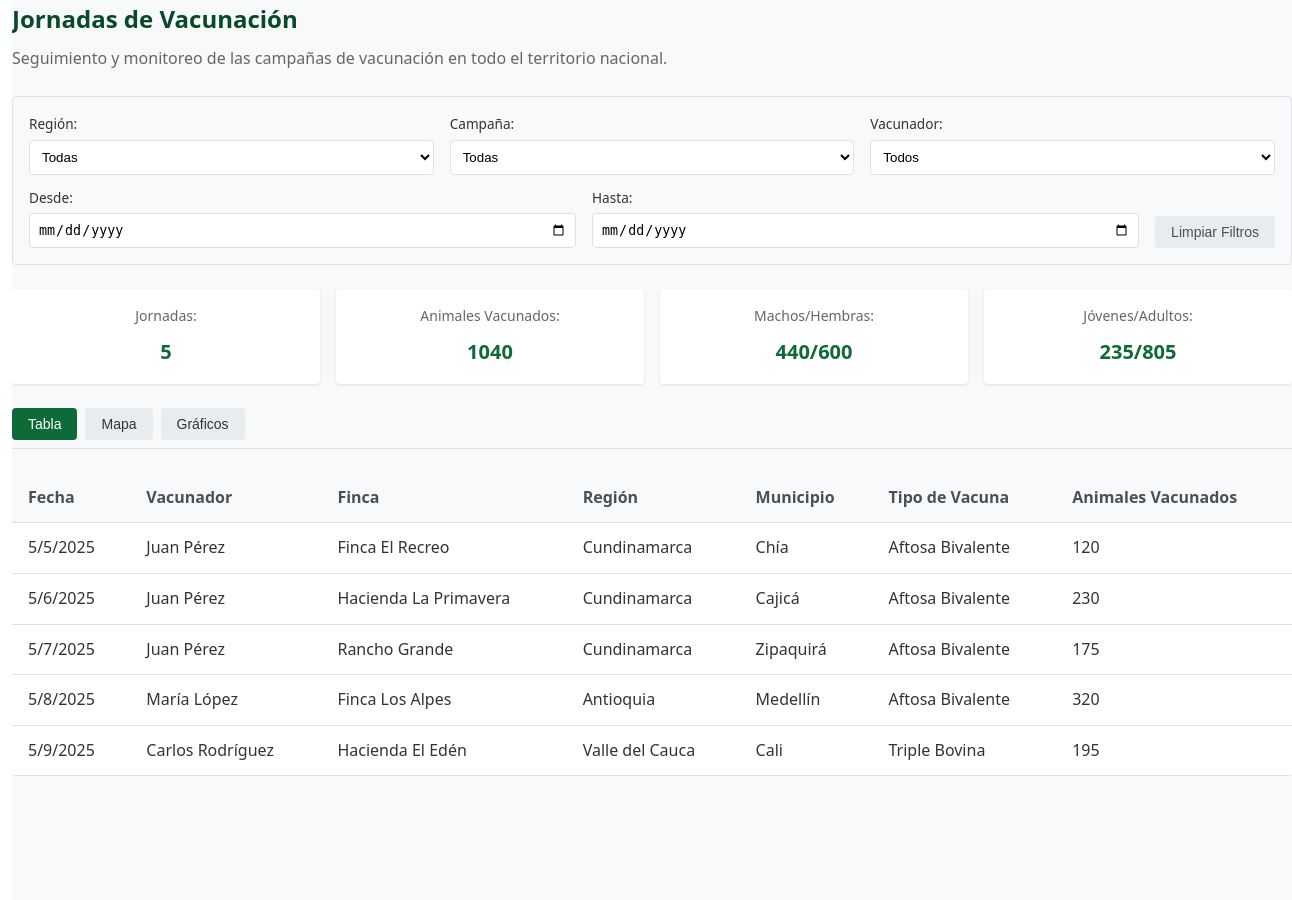
VaccinationView Component › displays trend chart when multiple date points exist
# Switch to charts tab
Click the button "Gráficos".
click(203, 424)  # box [160,408,245,440]
(page scrolled)
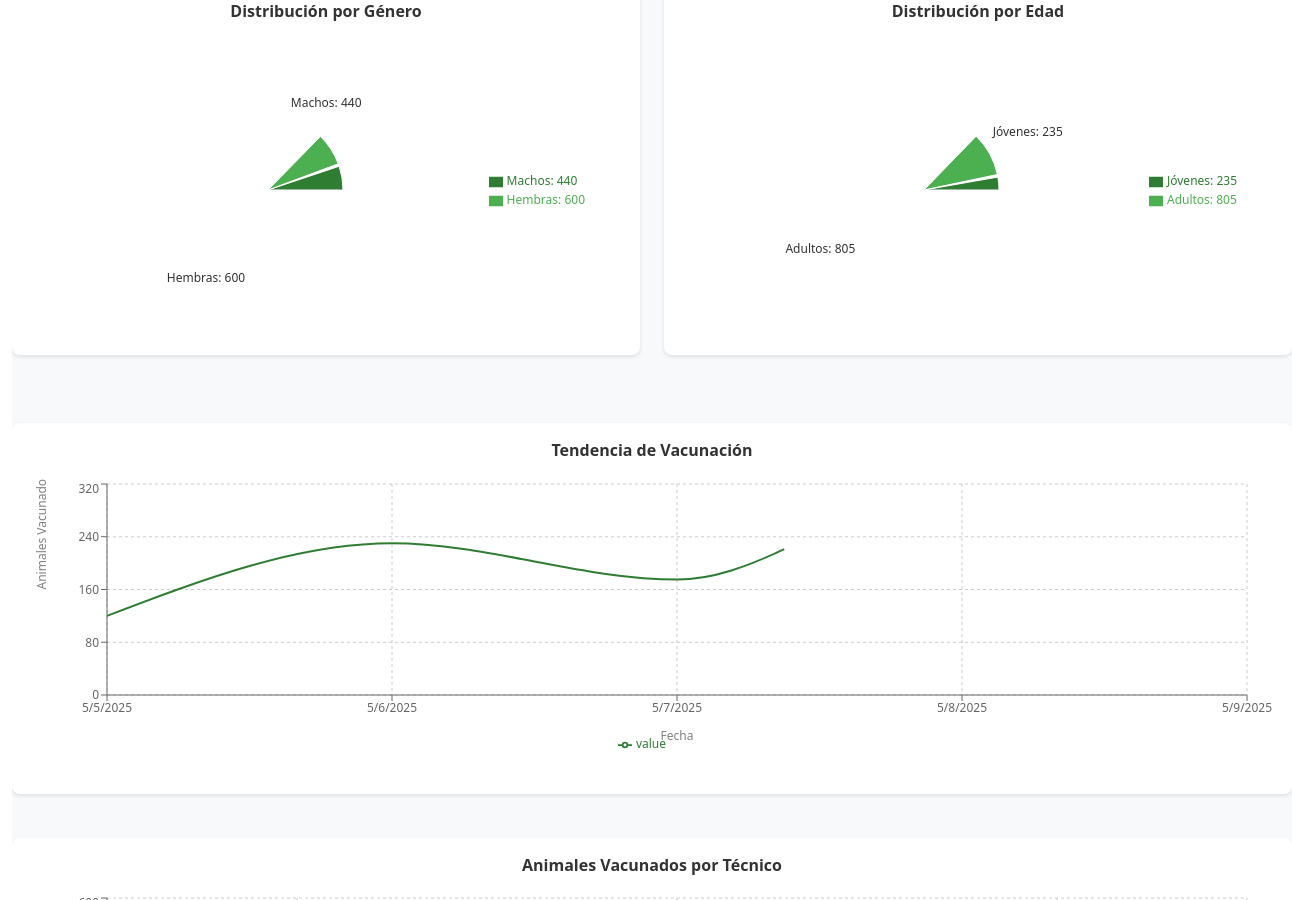
Now the heading "Tendencia de Vacunación" is shown, box [552,439,753,461]
